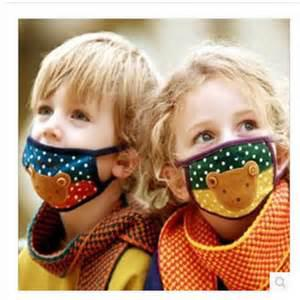OK: (176, 109, 281, 217)
WRONG: (25, 89, 120, 192)
